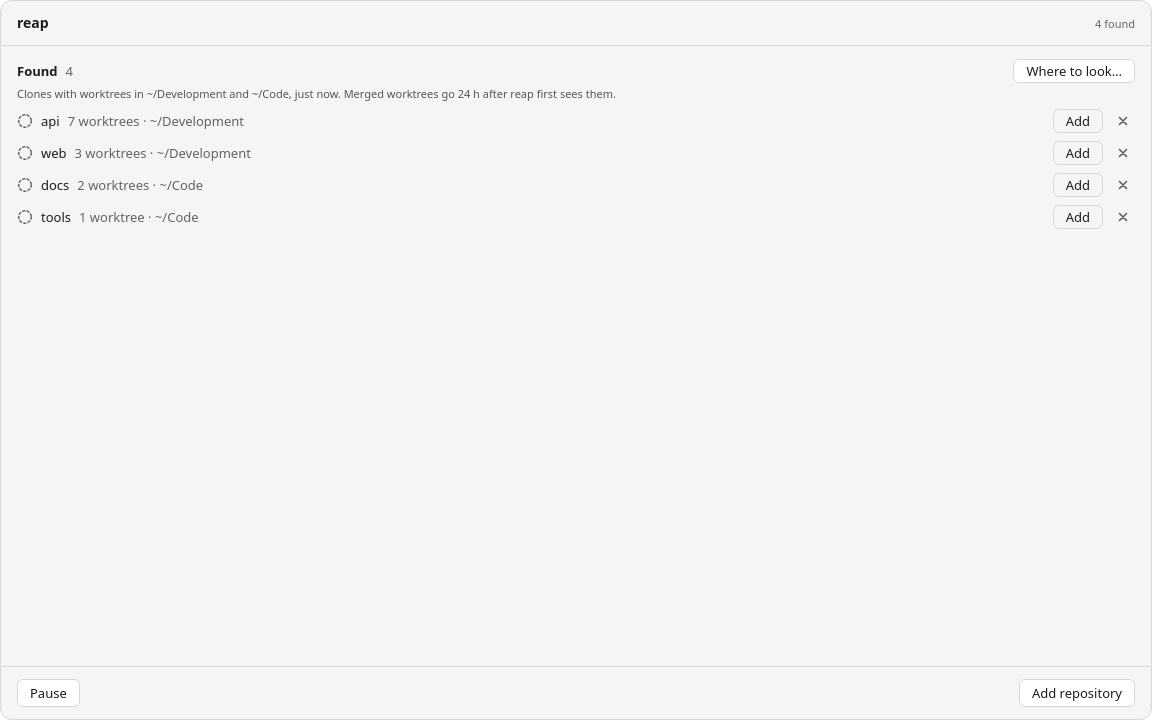
Test: Popover Add and Skip › skips a clone: the row goes, the count drops, and Where to look lists it
Click the button named "Skip web" at (1123, 153), box [1111, 141, 1135, 165]
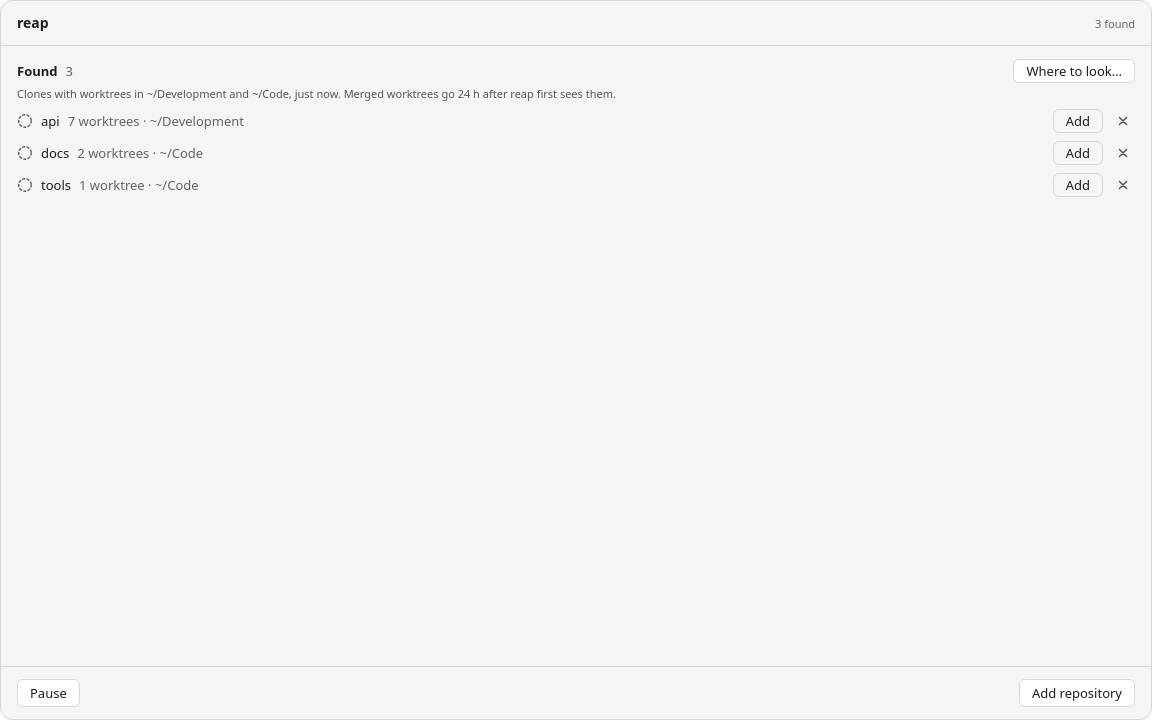
Check: the text "3 found" is shown, box [1095, 16, 1135, 31]
Check: the text "web" is gone
Click the button "Where to look…" at (1074, 71), box [1014, 59, 1135, 83]
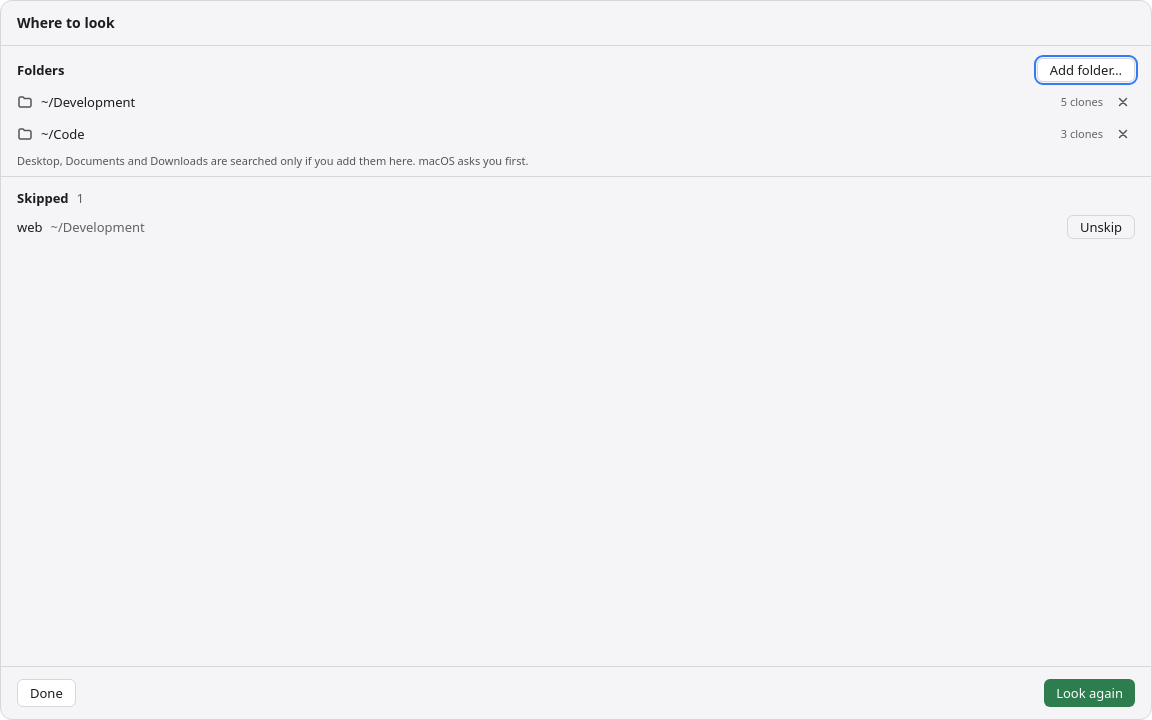
Check: the text "web" is shown, box [17, 218, 42, 236]
